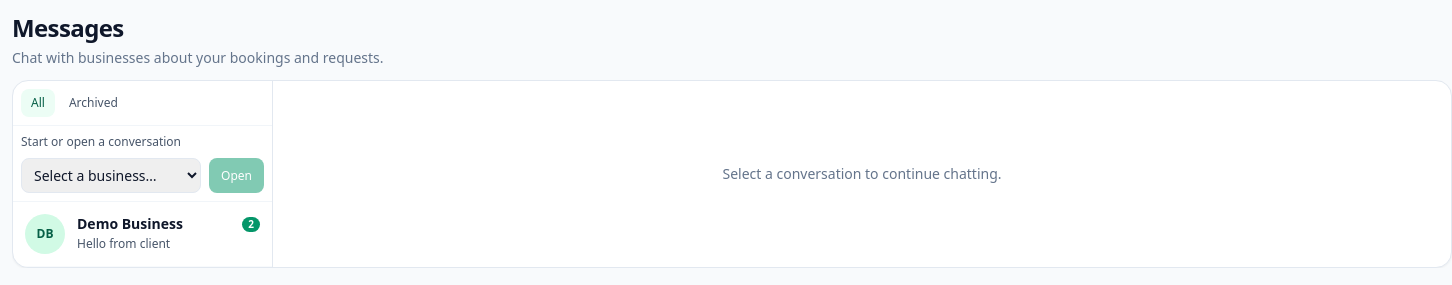
Test case: Client messages › keeps client composer visible with a long thread
What coordinates should you click on to do the following:
click the button with test id "client-messages-conversation-row"
I would click on:
 (142, 234)
Its box is [13,202,272,267].
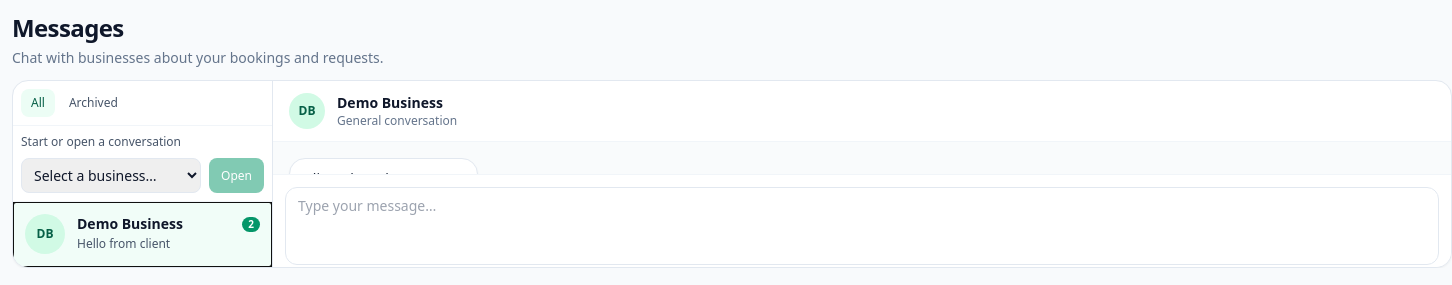
Expected: the element with test id "client-messages-thread-scroll" is shown, [273,142,1451,174]
Expected: the element with test id "client-messages-composer-shell" is shown, [273,174,1451,267]
Expected: the text box with placeholder "Type your message…" is shown, [285,187,1439,265]
